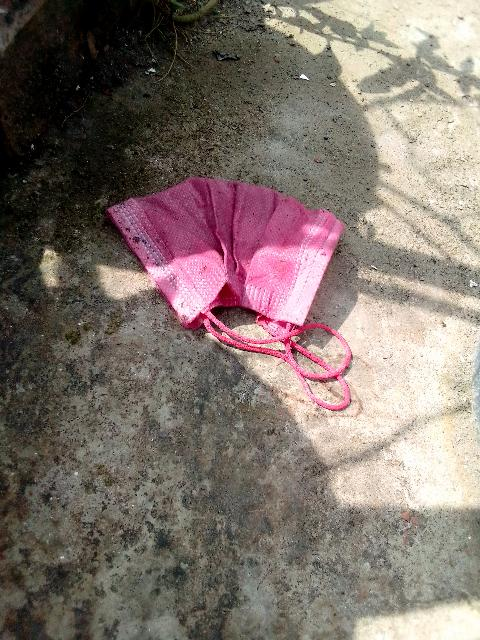mask: (119, 165, 345, 373)
